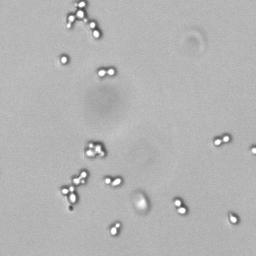budding: (171, 196, 190, 218), (101, 172, 126, 188), (212, 131, 232, 150), (224, 209, 243, 227), (96, 65, 116, 80), (108, 220, 121, 238)
cluster: (62, 1, 108, 44), (57, 167, 90, 213), (82, 139, 108, 161)
individual: (58, 53, 71, 67)
